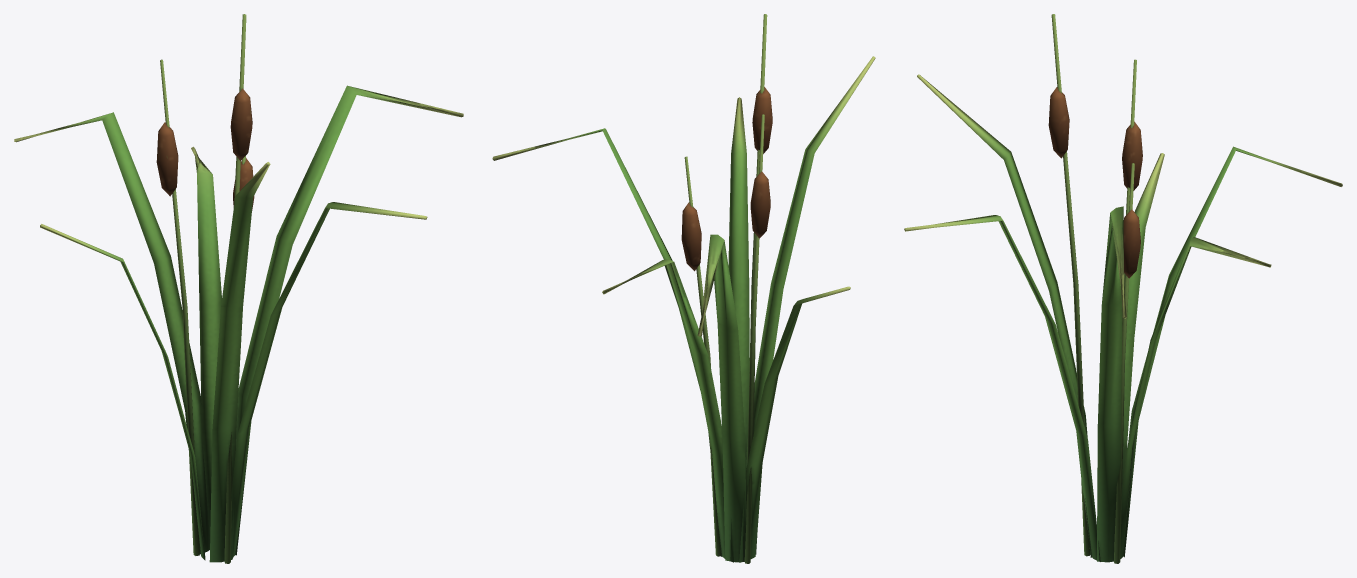
Rendered from Totora.fbx.
3 renders of one model, left to right at view 1: azimuth 30°, elevation 25°; view 2: azimuth 150°, elevation 25°; view 3: azimuth 270°, elevation 25°, orthographic. The views are drawn at different scales.
Visible parts, largest first — view 1: Malla; view 2: Malla; view 3: Malla.
Boxes of the visible parts, x1,y1,x2,y2 form: Malla: (14, 14, 463, 563); Malla: (492, 14, 875, 563); Malla: (904, 14, 1342, 563).
Bounding box in the file's own units: 1.58 × 2.1 × 1.55.
1 material, 1 textured.
